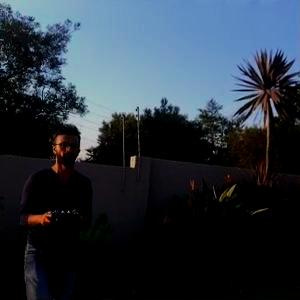follow: (15, 122, 97, 298)
